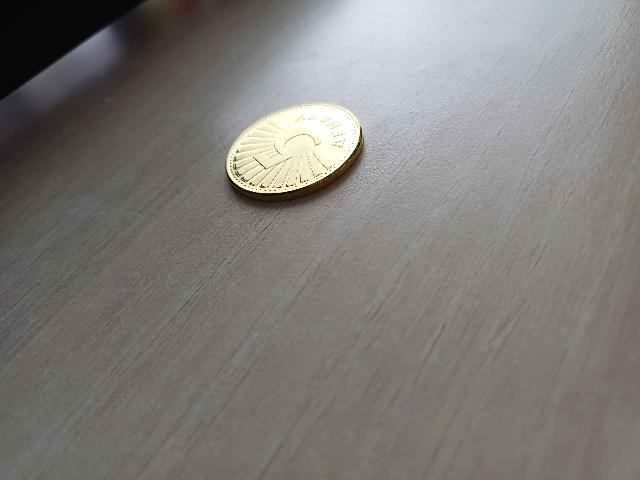coin: (226, 103, 360, 195)
